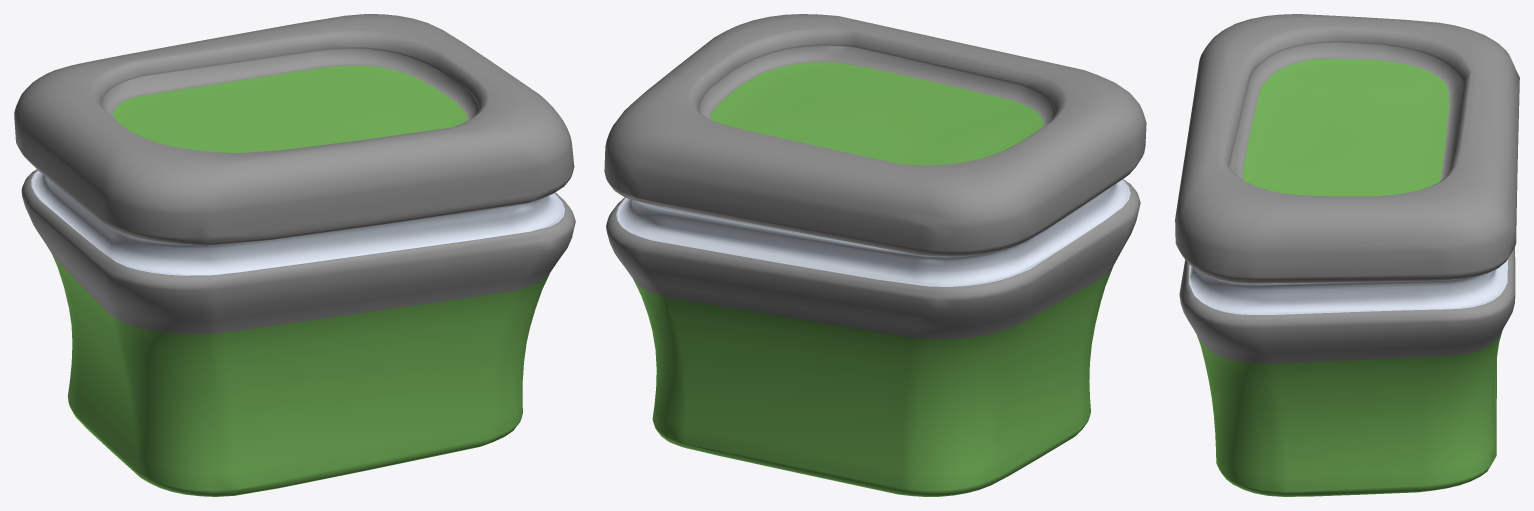
The model's file is SM_Building_03_Version_01_Part_04.fbx.
3 renders of one model, left to right at view 1: azimuth 30°, elevation 25°; view 2: azimuth 150°, elevation 25°; view 3: azimuth 270°, elevation 25°, orthographic. The views are drawn at different scales.
Visible parts, largest first — view 1: SM_Building_03_Version_01_Part_04; view 2: SM_Building_03_Version_01_Part_04; view 3: SM_Building_03_Version_01_Part_04.
Boxes of the visible parts, bbox=[...] form: SM_Building_03_Version_01_Part_04: bbox=[14, 14, 575, 496]; SM_Building_03_Version_01_Part_04: bbox=[604, 14, 1146, 496]; SM_Building_03_Version_01_Part_04: bbox=[1175, 14, 1519, 496].
Bounding box in the file's own units: 4810 × 3570 × 3528.
